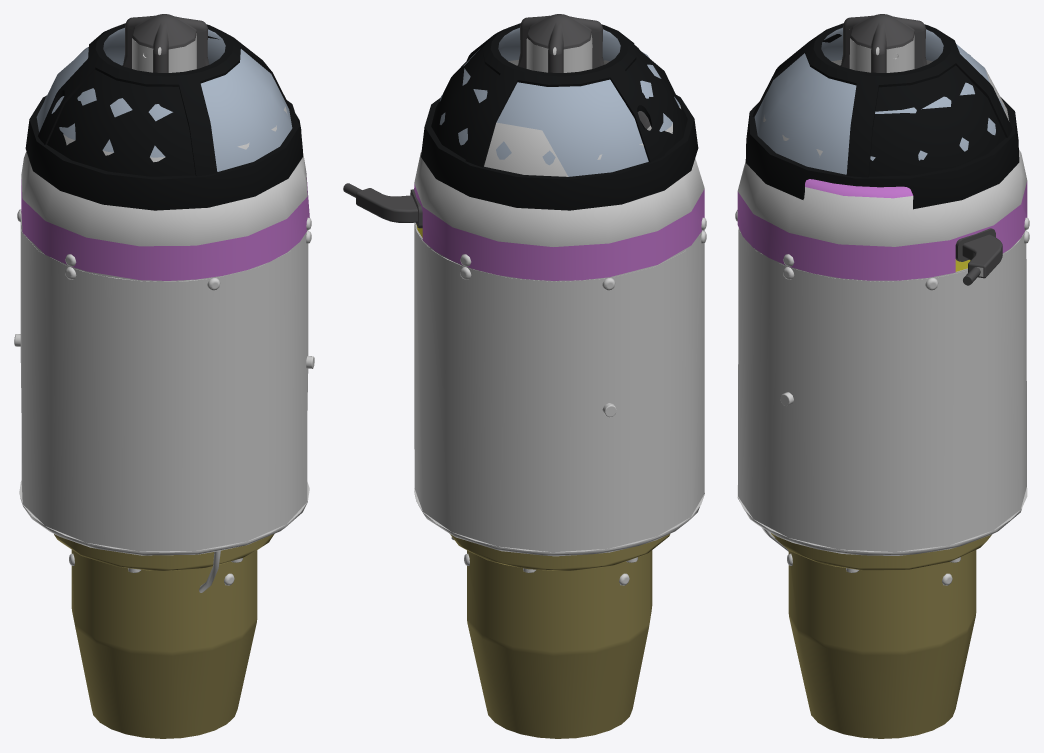
The model's file is sim_sea_2-5_l_p220_prt.obj.
3 views of the same model, side by side, from view 1: azimuth 30°, elevation 25°; view 2: azimuth 150°, elevation 25°; view 3: azimuth 270°, elevation 25° (orthographic).
Visible parts, largest first — view 1: sim_sea_2-5_l_p220_prt.003; view 2: sim_sea_2-5_l_p220_prt.003; view 3: sim_sea_2-5_l_p220_prt.003.
Part boxes in pixels (x1=…): sim_sea_2-5_l_p220_prt.003: x1=14, y1=14, x2=314, y2=738; sim_sea_2-5_l_p220_prt.003: x1=343, y1=14, x2=706, y2=738; sim_sea_2-5_l_p220_prt.003: x1=735, y1=14, x2=1029, y2=738.
Size of the model in its own units: 138 by 307 by 119.
